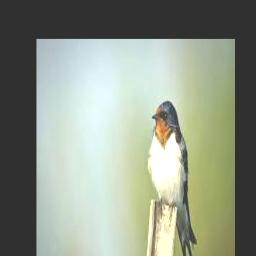Swallow: (147, 101, 199, 256)
